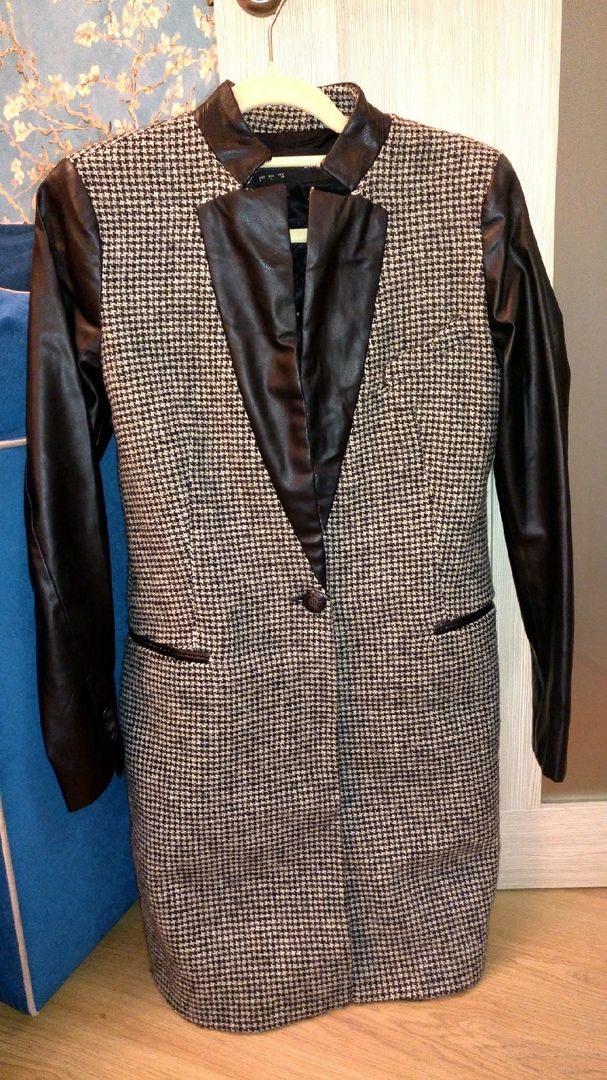clothes: (4, 64, 589, 1024)
